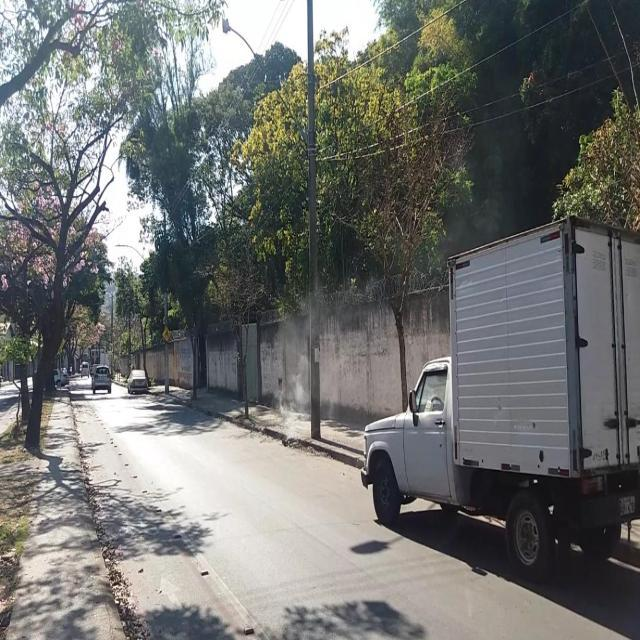Smoke: (268, 282, 366, 444)
